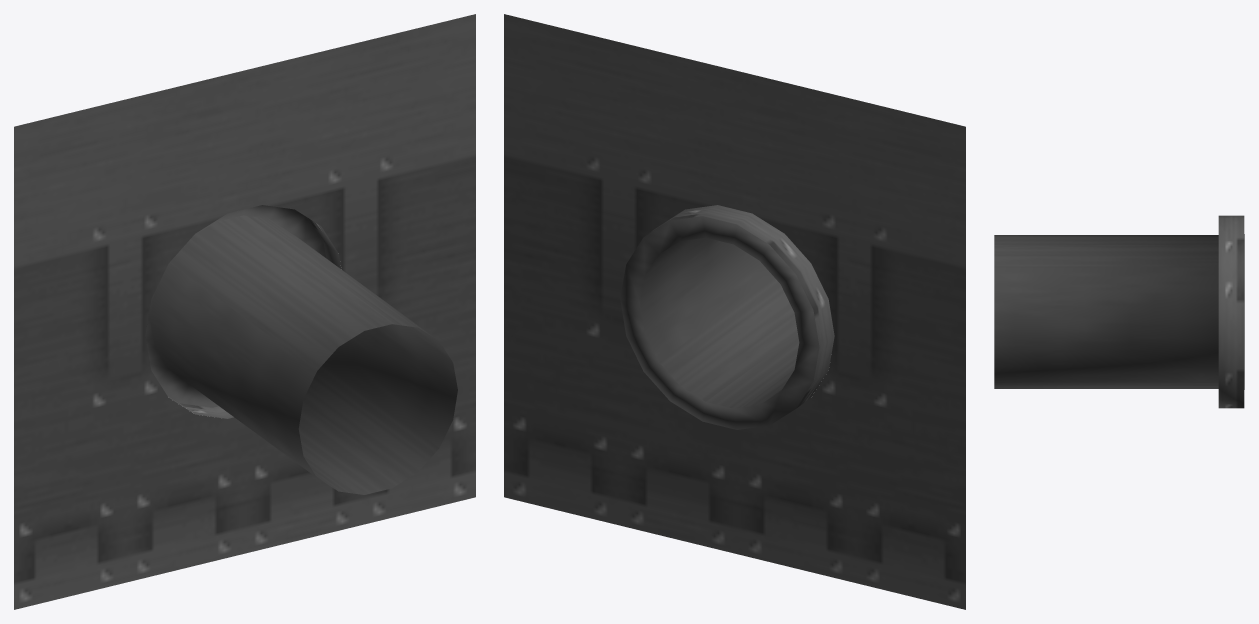
Rendered from Plane_Window.FBX.
The picture shows the model from 3 angles, left to right: view 1: azimuth 30°, elevation 25°; view 2: azimuth 150°, elevation 25°; view 3: azimuth 270°, elevation 25°; orthographic projection. The views are drawn at different scales.
Parts seen in each view (by area): view 1: Wall, Porthole; view 2: Wall, Porthole; view 3: Porthole.
Boxes of the visible parts, x1,y1,x2,y2 form: Wall: (14, 14, 475, 609); Porthole: (145, 205, 457, 494); Wall: (504, 14, 965, 609); Porthole: (620, 205, 834, 429); Porthole: (994, 215, 1244, 408).
Bounding box in the file's own units: 1 × 1 × 0.5575.
